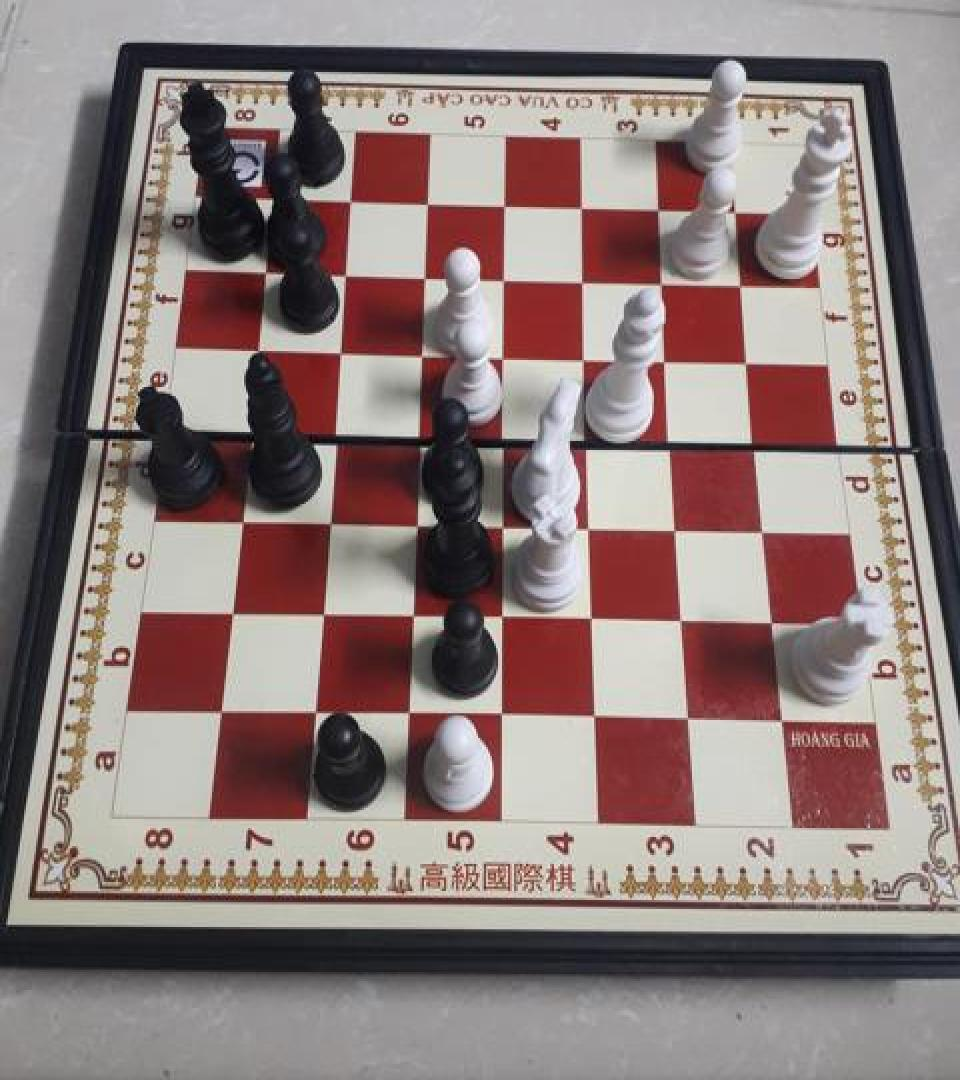xcorner: (490, 696, 522, 733), (583, 697, 615, 734), (676, 698, 708, 735), (208, 692, 240, 728), (302, 693, 334, 729), (396, 694, 428, 730), (768, 700, 800, 736), (218, 594, 250, 630), (310, 595, 342, 631), (401, 596, 433, 632), (491, 598, 523, 634), (581, 600, 613, 636), (671, 601, 703, 637), (760, 603, 792, 639), (228, 500, 260, 536), (316, 503, 348, 539), (405, 504, 437, 540), (492, 506, 524, 542), (580, 508, 612, 544), (667, 510, 699, 546), (753, 511, 785, 547), (237, 414, 269, 450), (323, 416, 355, 452), (408, 418, 440, 454), (493, 420, 525, 456), (578, 422, 610, 458), (663, 423, 695, 459), (746, 425, 778, 461), (245, 332, 277, 368), (329, 334, 361, 370), (412, 336, 444, 372), (494, 338, 526, 374), (577, 341, 609, 377), (659, 342, 691, 378), (740, 344, 772, 380), (253, 256, 285, 292), (334, 258, 366, 294), (415, 260, 447, 296), (495, 262, 527, 298), (575, 263, 607, 299), (655, 266, 687, 302), (734, 268, 766, 304), (261, 182, 293, 218), (340, 184, 372, 220), (418, 187, 450, 223), (496, 189, 528, 225), (574, 191, 606, 227), (652, 194, 684, 230), (729, 196, 761, 232)
